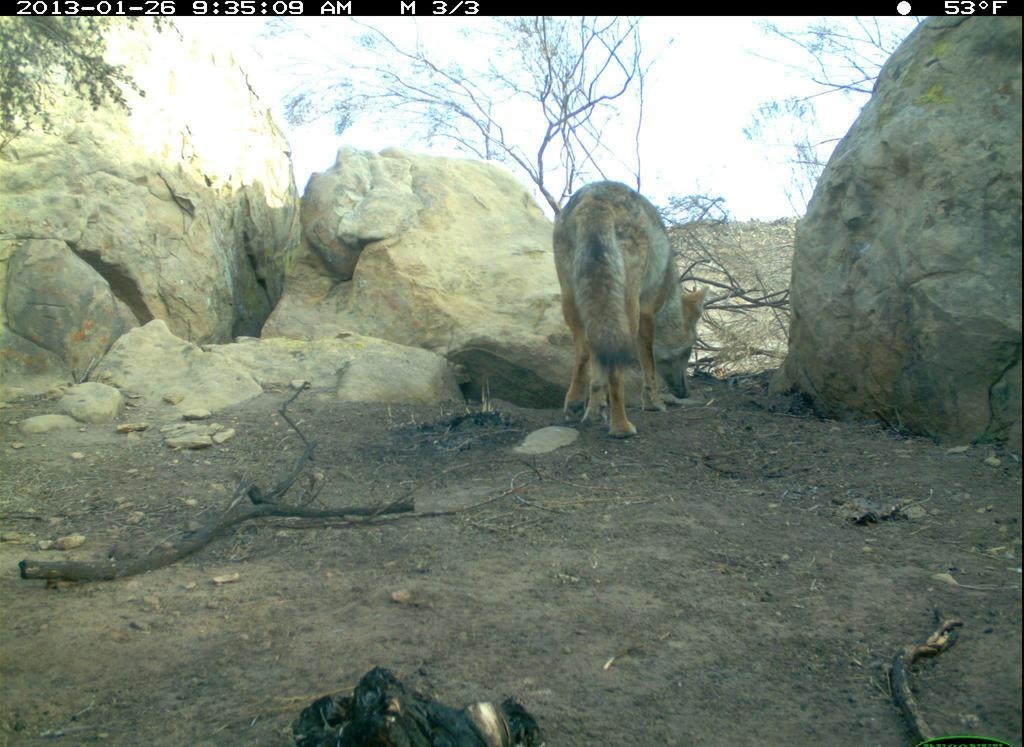coyote: (550, 164, 713, 446)
